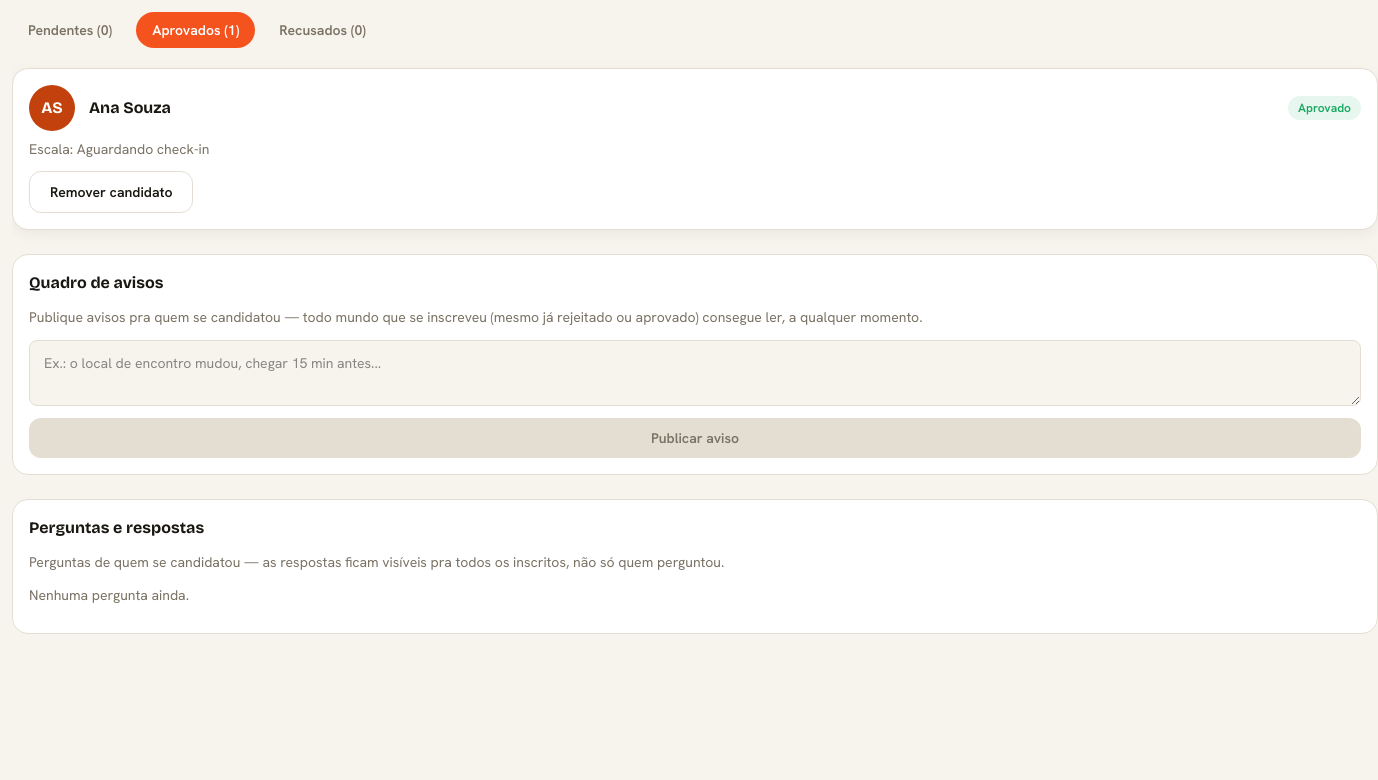
Test: VagaCandidatosPage › remove o candidato ao confirmar e recarrega a lista como "Removido"
The width and height of the screenshot is (1378, 780).
Click the button "Remover candidato": (111, 192) [29,171,194,213]
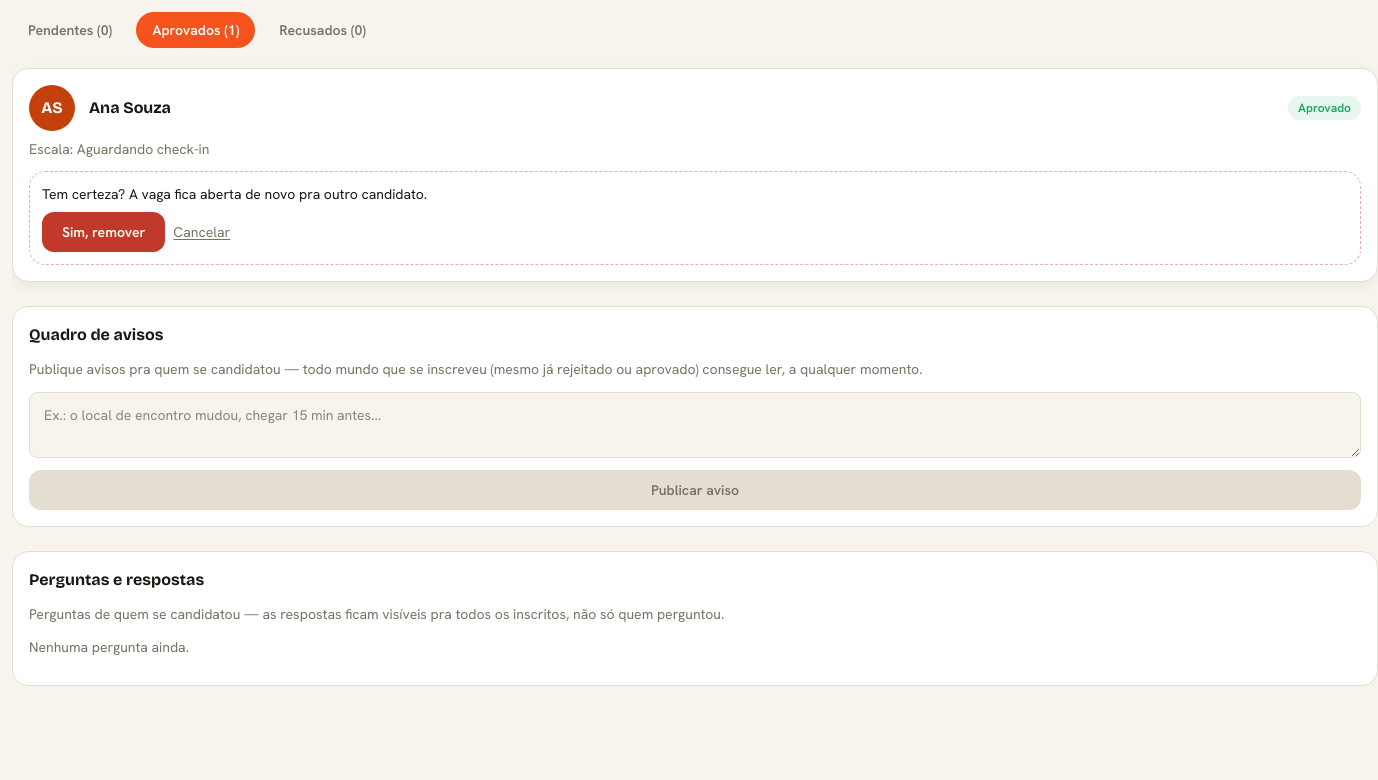
Click the button "Sim, remover": (104, 232) [42,212,165,252]
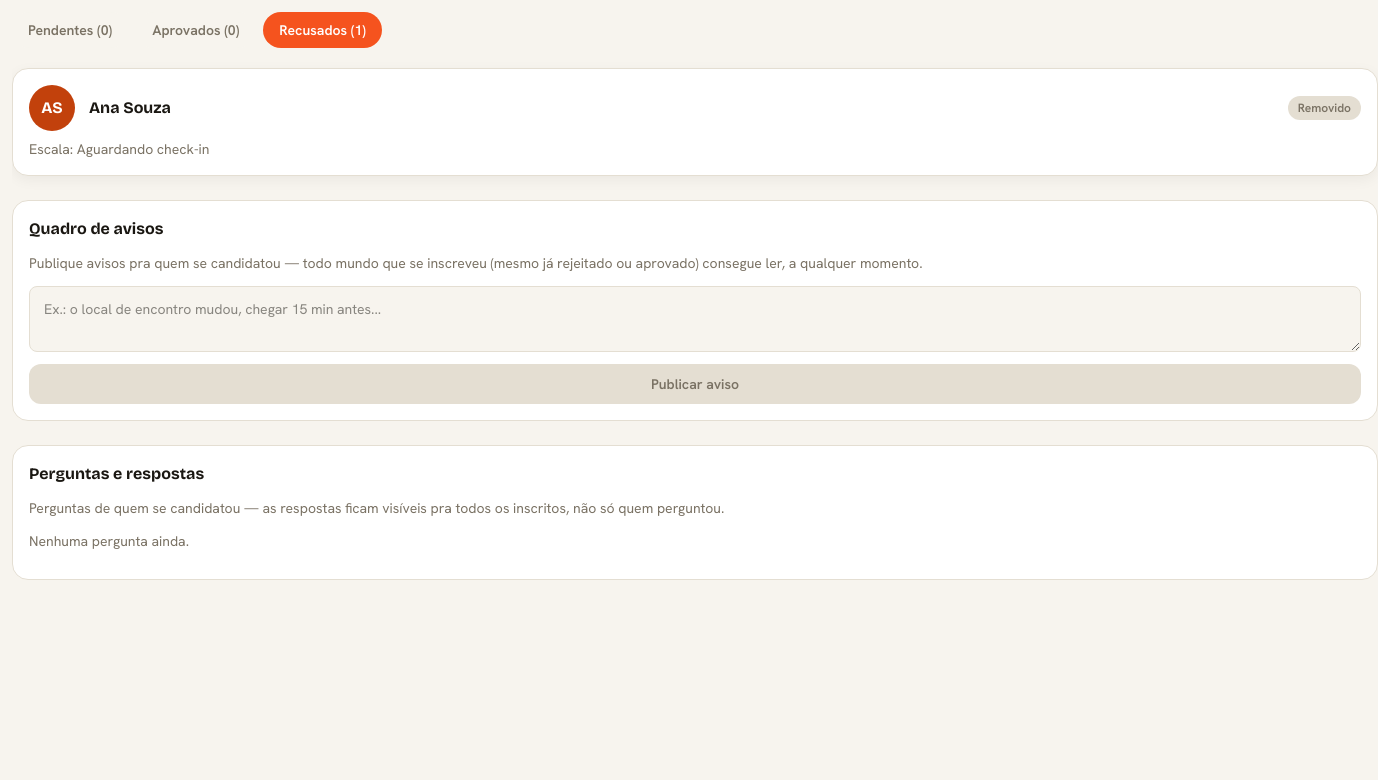
Now the text "Removido" is shown, box [1288,96,1361,120]
